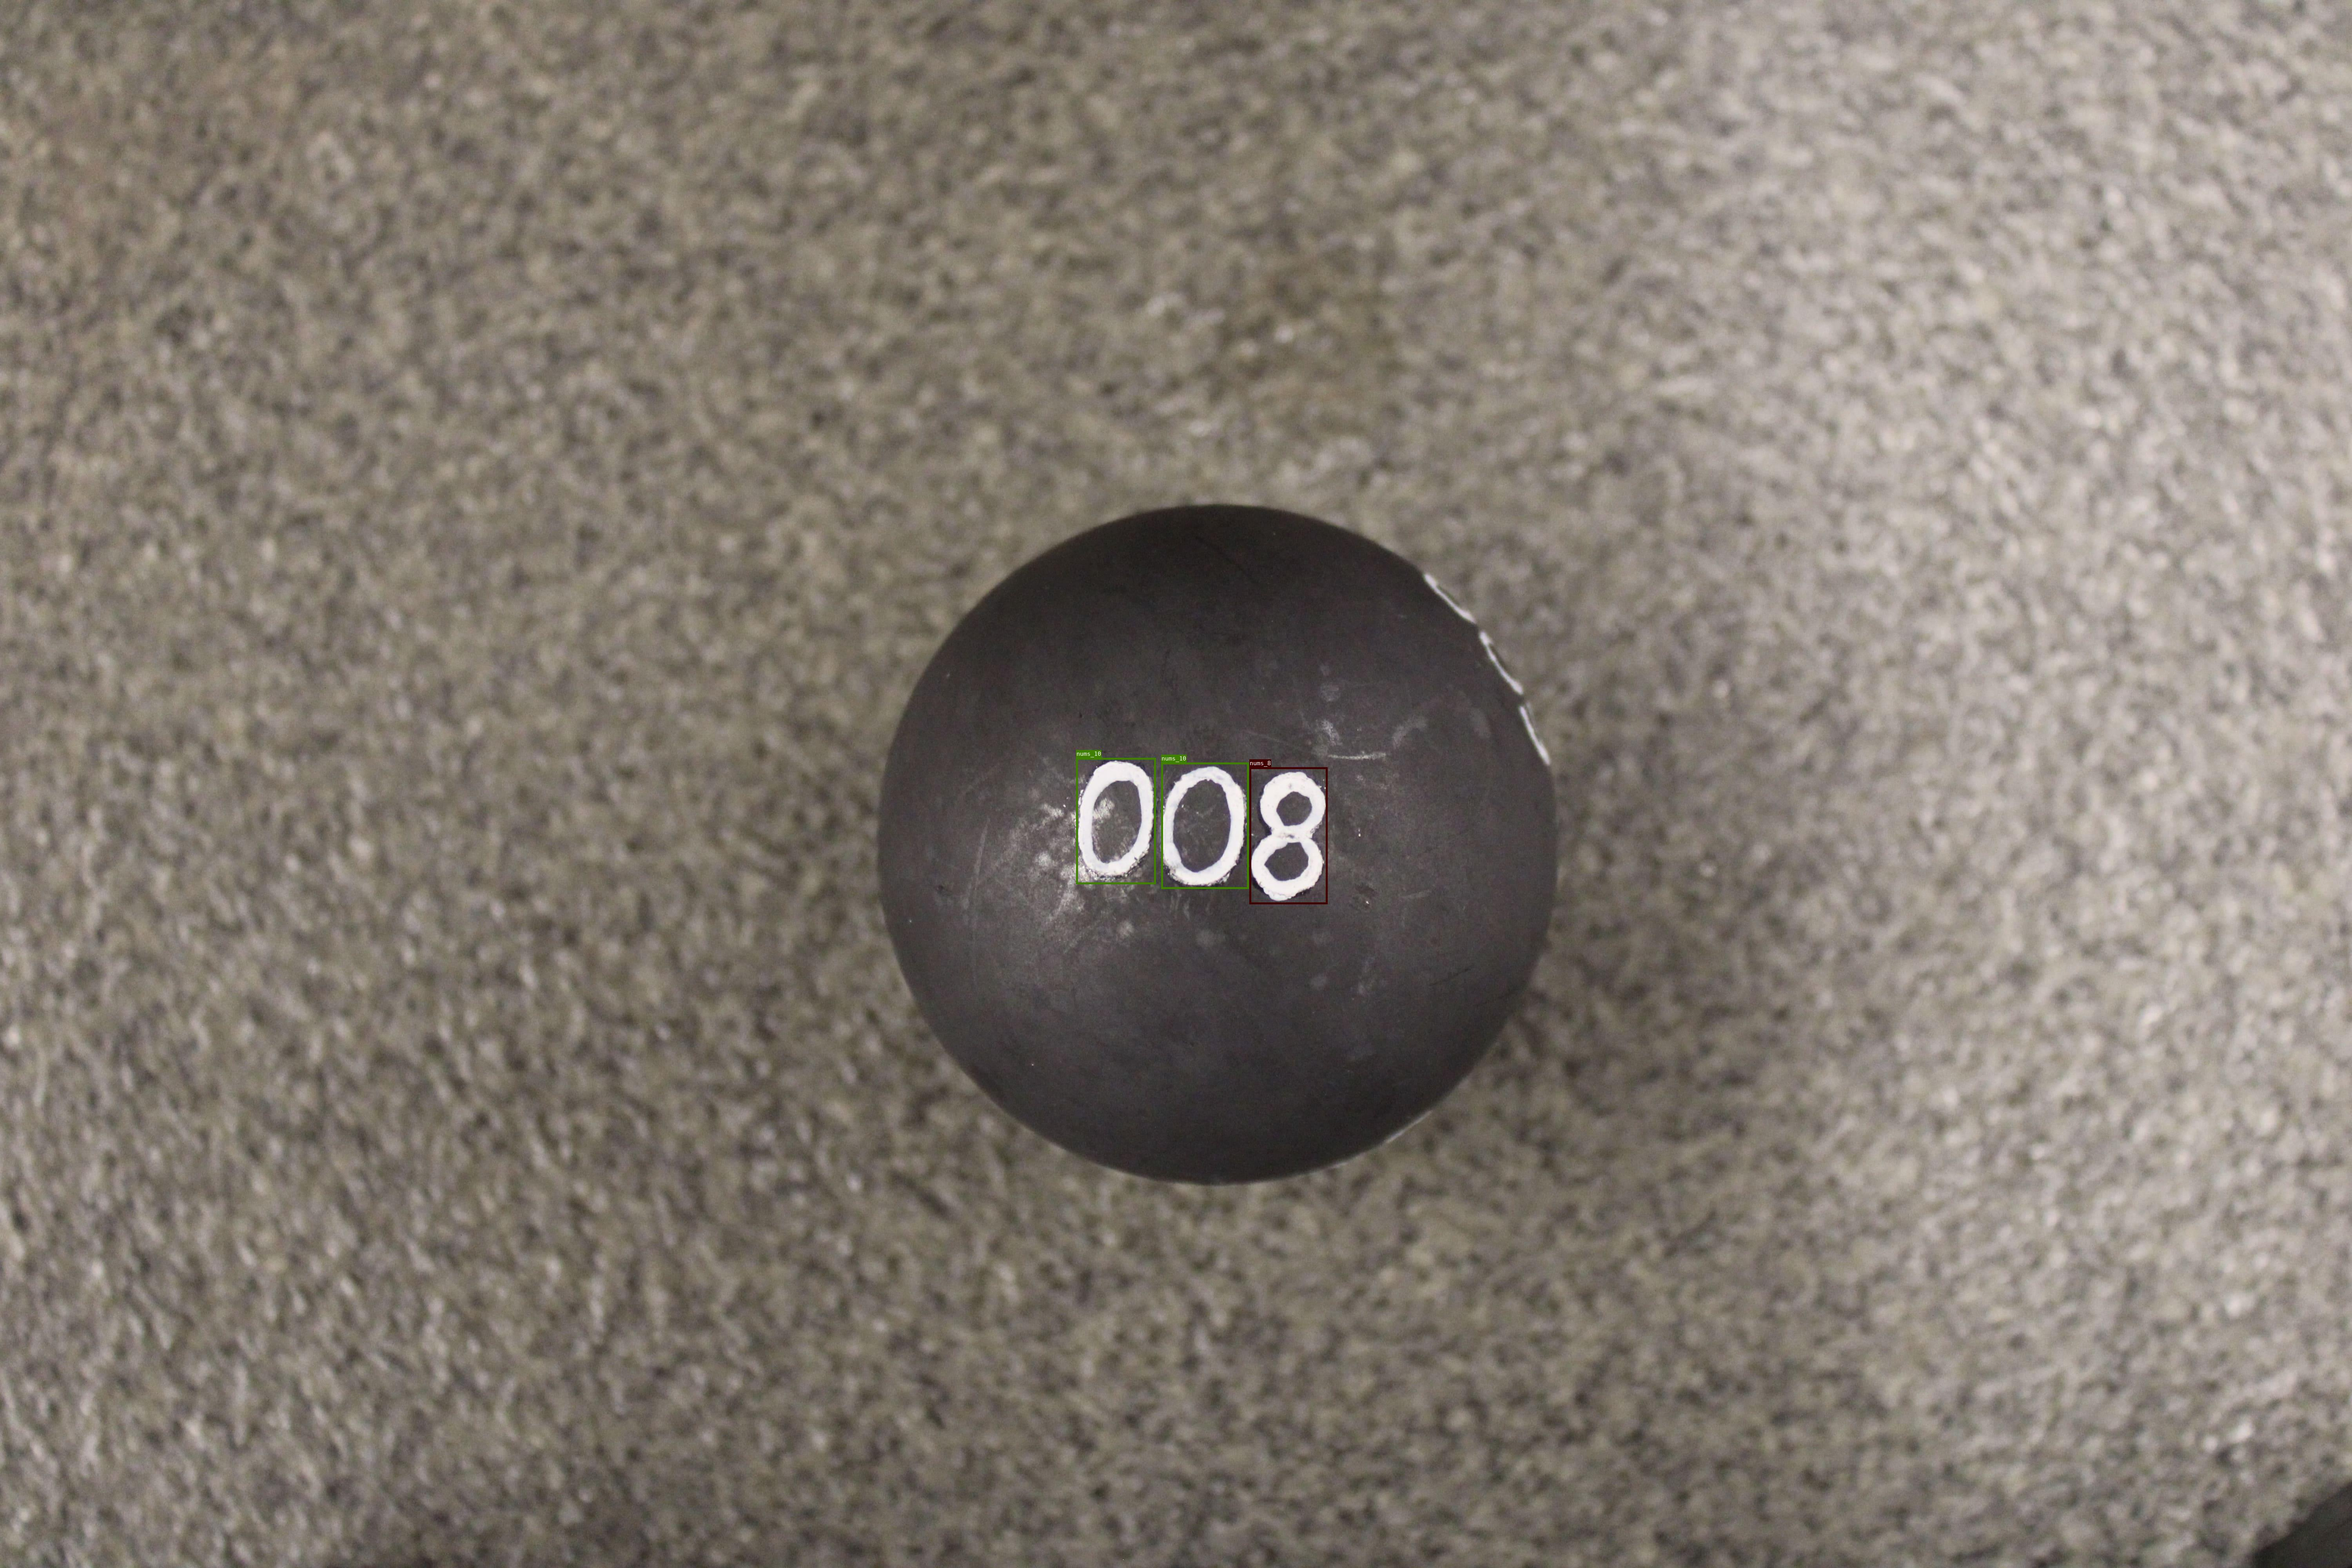nums_10: (1160, 763, 1248, 889), (1076, 758, 1155, 884)
nums_8: (1249, 766, 1326, 905)
